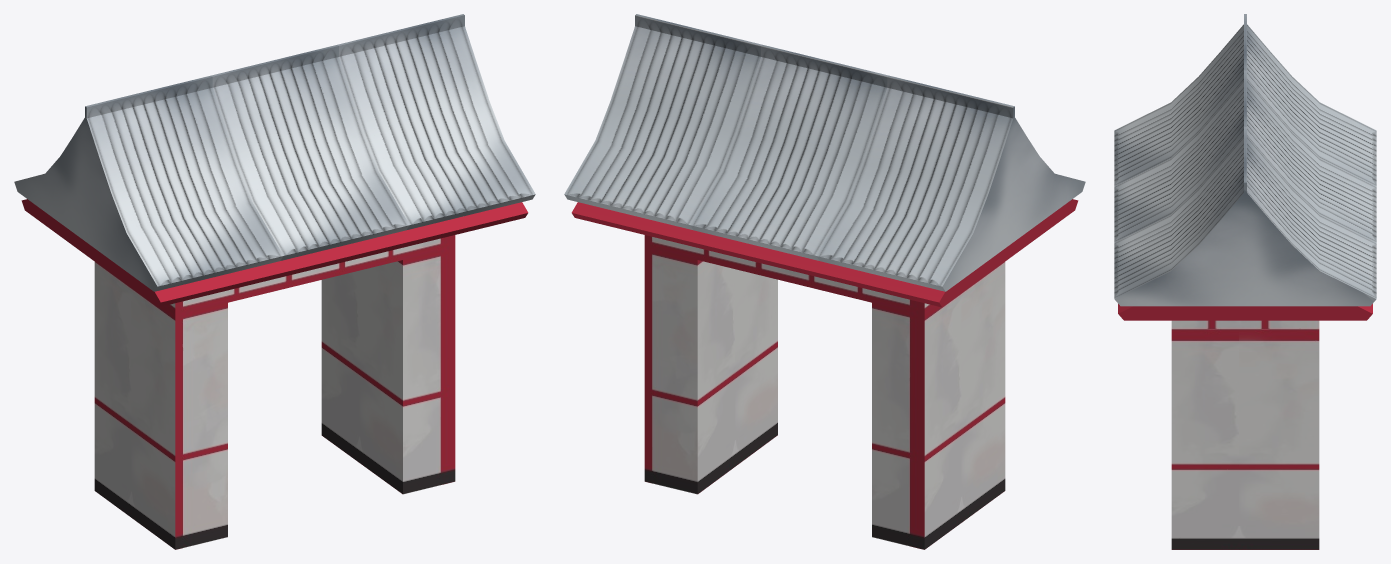
File: Gate Dark.fbx
3 views of the same model, side by side, from view 1: azimuth 30°, elevation 25°; view 2: azimuth 150°, elevation 25°; view 3: azimuth 270°, elevation 25° (orthographic). The views are drawn at different scales.
Parts seen in each view (by area): view 1: Plane025; view 2: Plane025; view 3: Plane025.
Boxes of the visible parts, left/top/right/bottom form: Plane025: left=14, top=14, right=535, bottom=549; Plane025: left=564, top=14, right=1085, bottom=549; Plane025: left=1114, top=14, right=1376, bottom=549.
Size of the model in its own units: 37.85 by 40.68 by 24.84.
3 materials, 3 textured.
